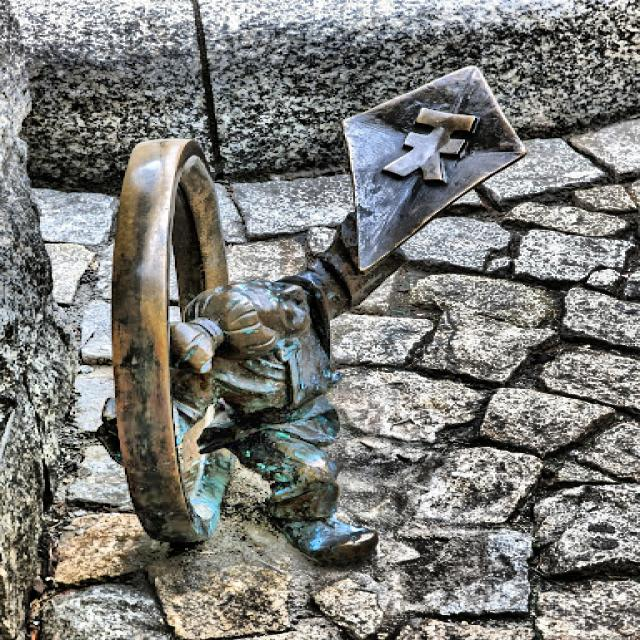TianTian: (98, 67, 525, 564)
